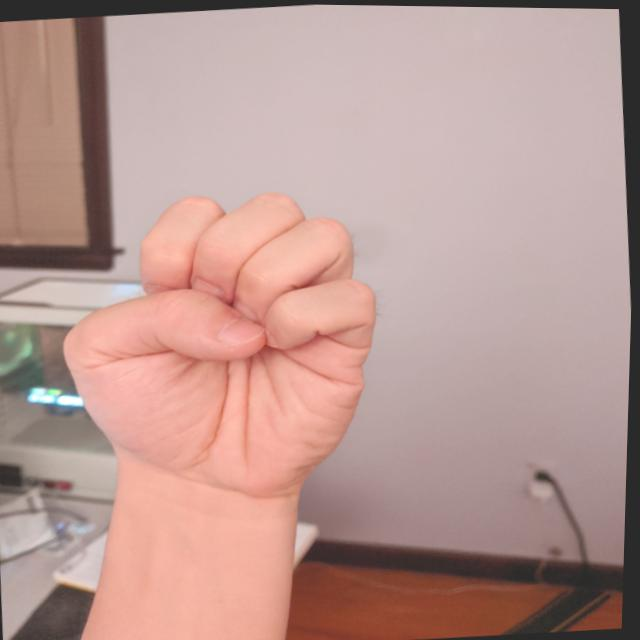E: (41, 177, 403, 522)
